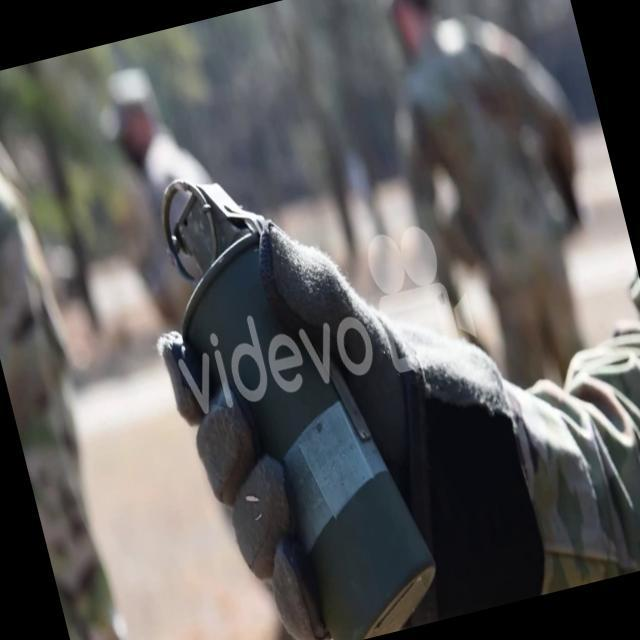grenade: (136, 131, 449, 640)
